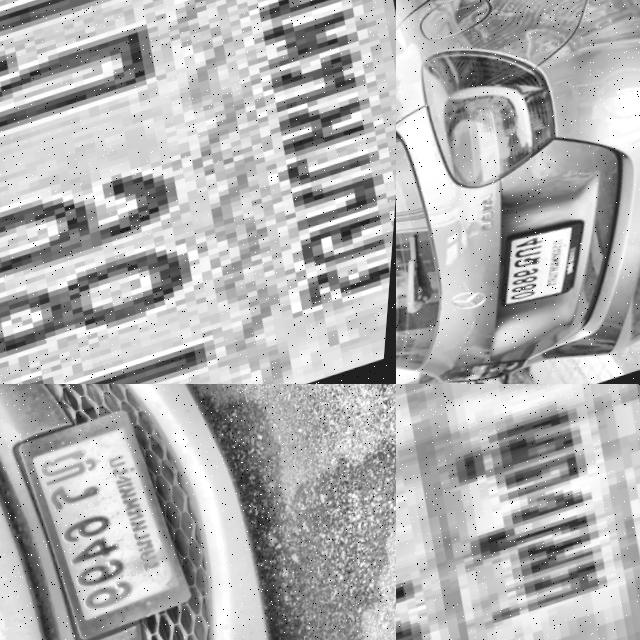license-plate: (0, 0, 396, 384), (396, 384, 640, 640), (1, 396, 219, 640), (491, 218, 605, 320)
